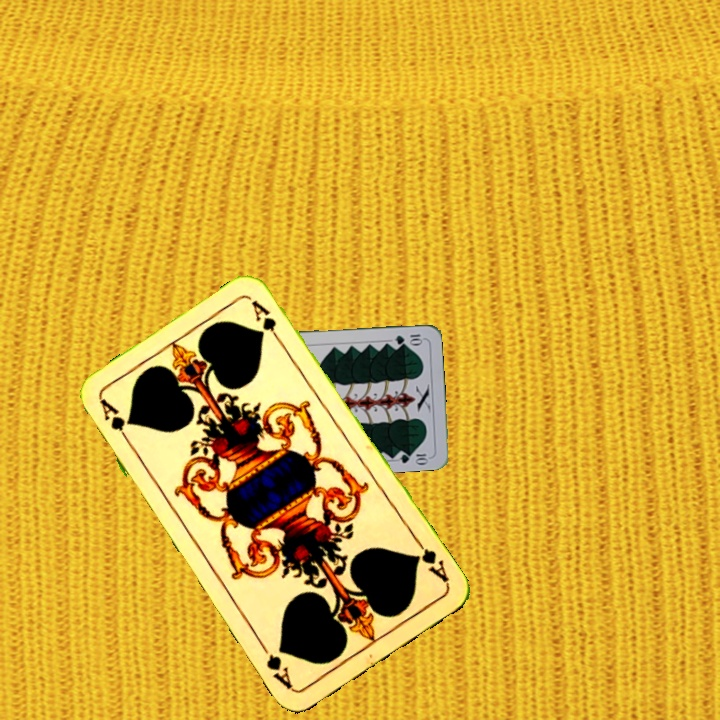G10: (391, 330, 425, 347)
GA: (409, 534, 452, 586), (95, 395, 135, 449)
